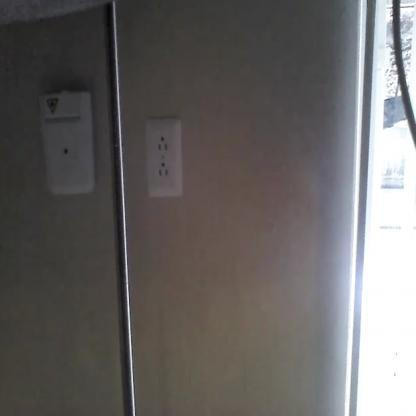OUTLET: (144, 116, 184, 198)
